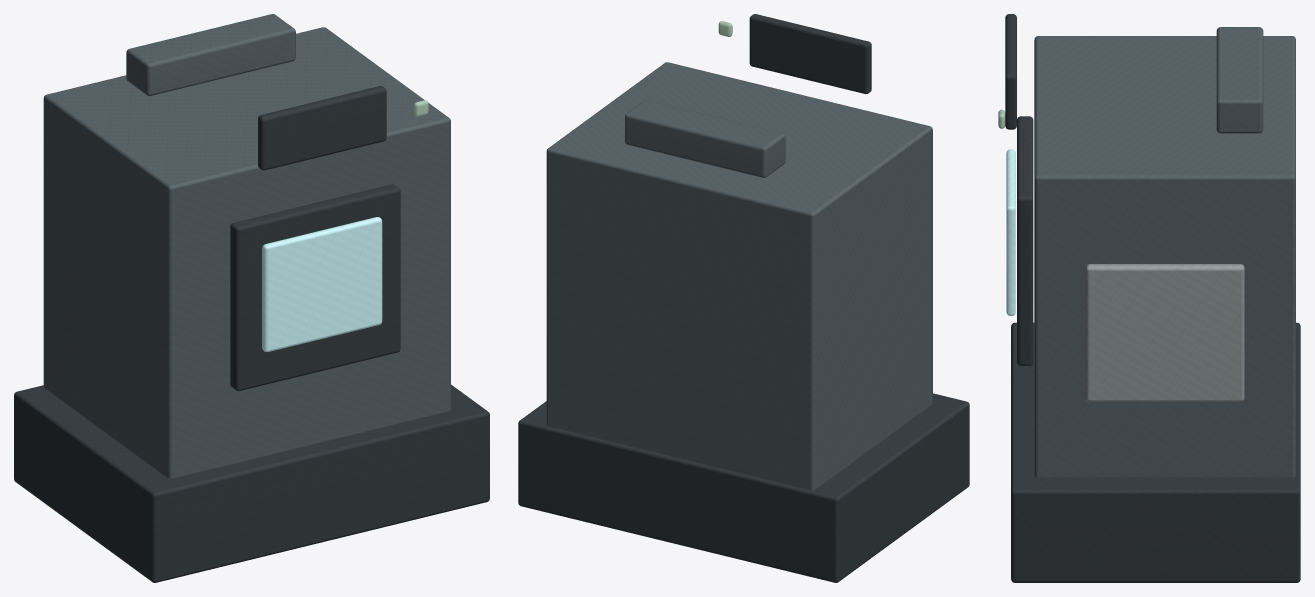
File: PortableSpecimenScanner.glb
The picture shows the model from 3 angles, left to right: view 1: azimuth 30°, elevation 25°; view 2: azimuth 150°, elevation 25°; view 3: azimuth 270°, elevation 25°; orthographic projection. The views are drawn at different scales.
Visible parts, largest first — view 1: PortableSpecimenScanner_Mesh; view 2: PortableSpecimenScanner_Mesh; view 3: PortableSpecimenScanner_Mesh.
Part boxes in pixels (x1,y1,x2,y2): PortableSpecimenScanner_Mesh: (14,14,489,582); PortableSpecimenScanner_Mesh: (518,14,969,582); PortableSpecimenScanner_Mesh: (998,14,1300,582).
Size of the model in its own units: 0.86 by 1.08 by 0.6475.
Materials: 5 (5 with a texture image).
